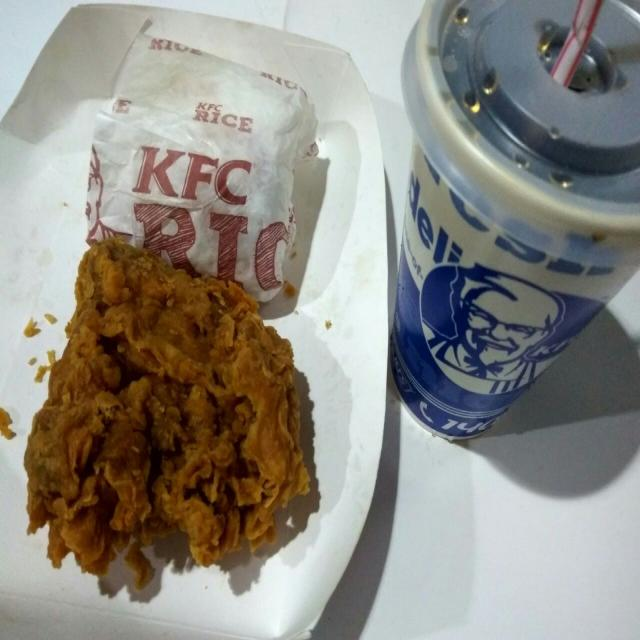Frango: (14, 233, 316, 553)
